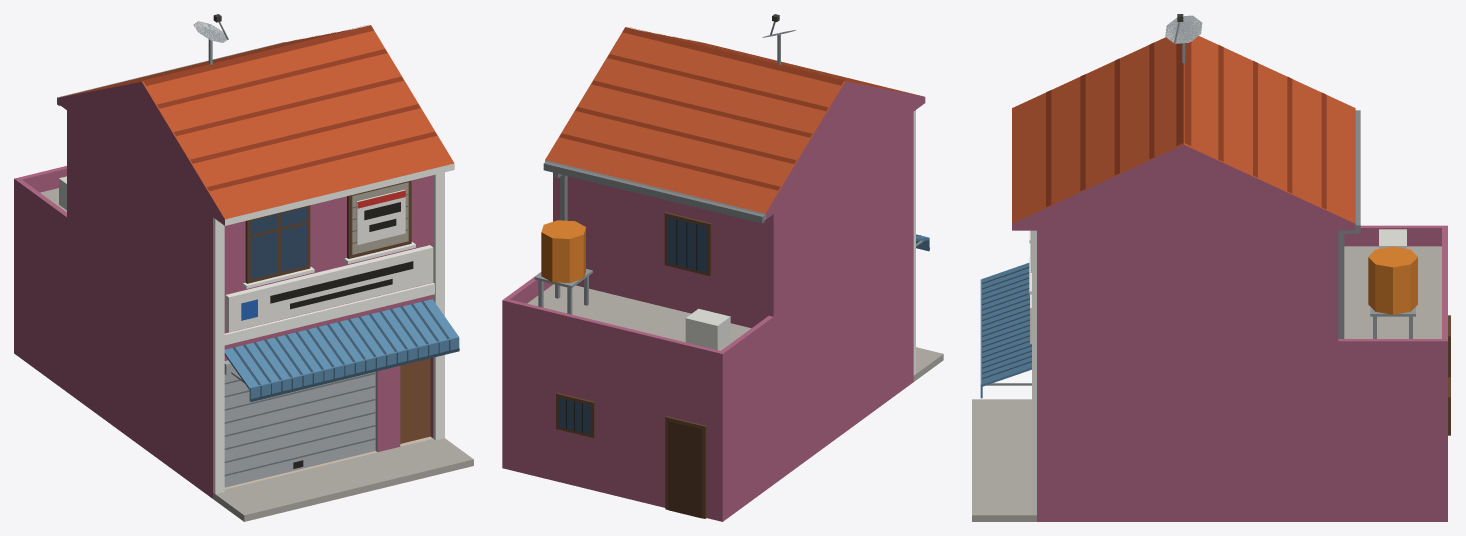
Rendered from ruko_10.glb.
3 views of the same model, side by side, from view 1: azimuth 30°, elevation 25°; view 2: azimuth 150°, elevation 25°; view 3: azimuth 270°, elevation 25° (orthographic). The views are drawn at different scales.
Visible parts, largest first — view 1: ruko_10; view 2: ruko_10; view 3: ruko_10.
Boxes of the visible parts, x1,y1,x2,y2 form: ruko_10: (14, 14, 473, 521); ruko_10: (502, 14, 943, 521); ruko_10: (972, 14, 1450, 521).
Bounding box in the file's own units: 5.5 × 9.49 × 9.63.
